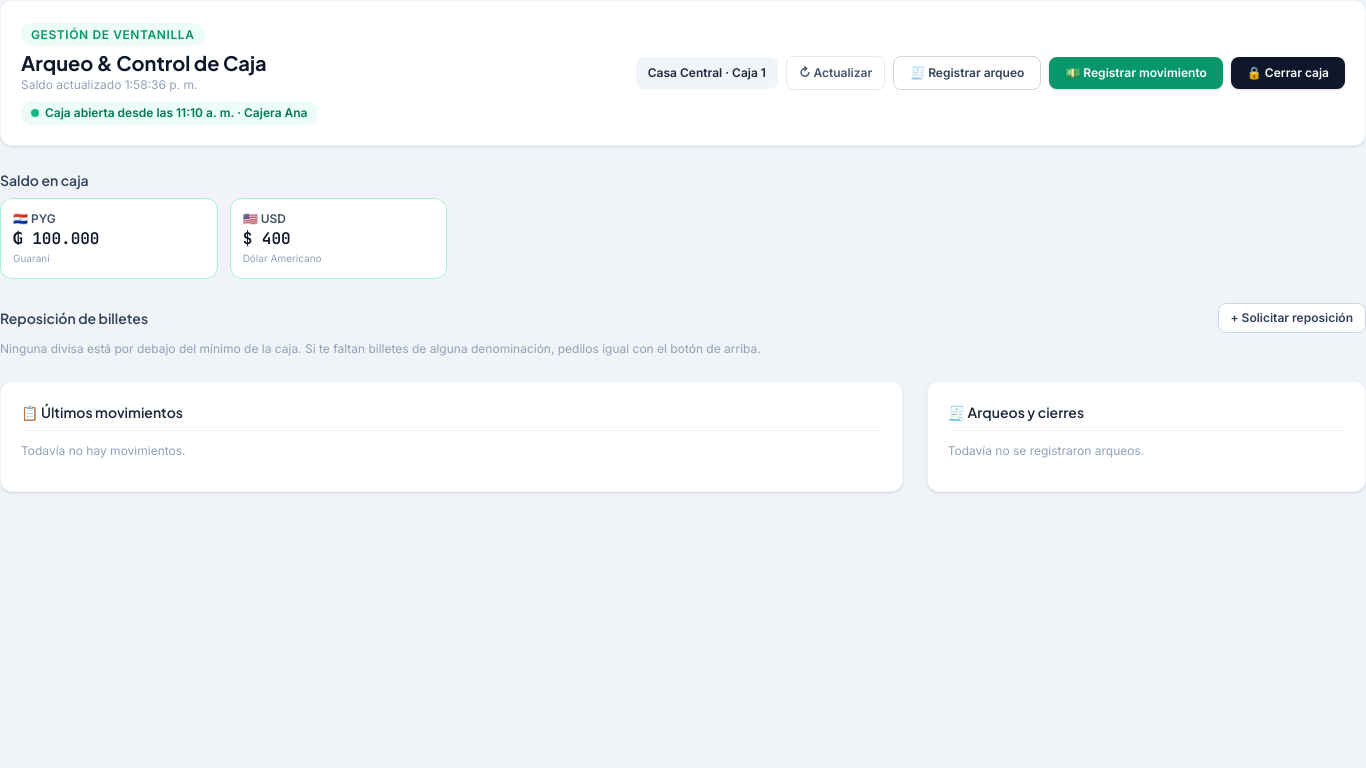
Test: CashCountView · arqueo por total (PI-78) › arranca con el total del sistema y marca faltantes y sobrantes
The width and height of the screenshot is (1366, 768).
Expected: the text "$ 400" is shown, [243,228,291,249]
Click the button "🧾 Registrar arqueo". click: (967, 73)
box: [893,56,1041,90]
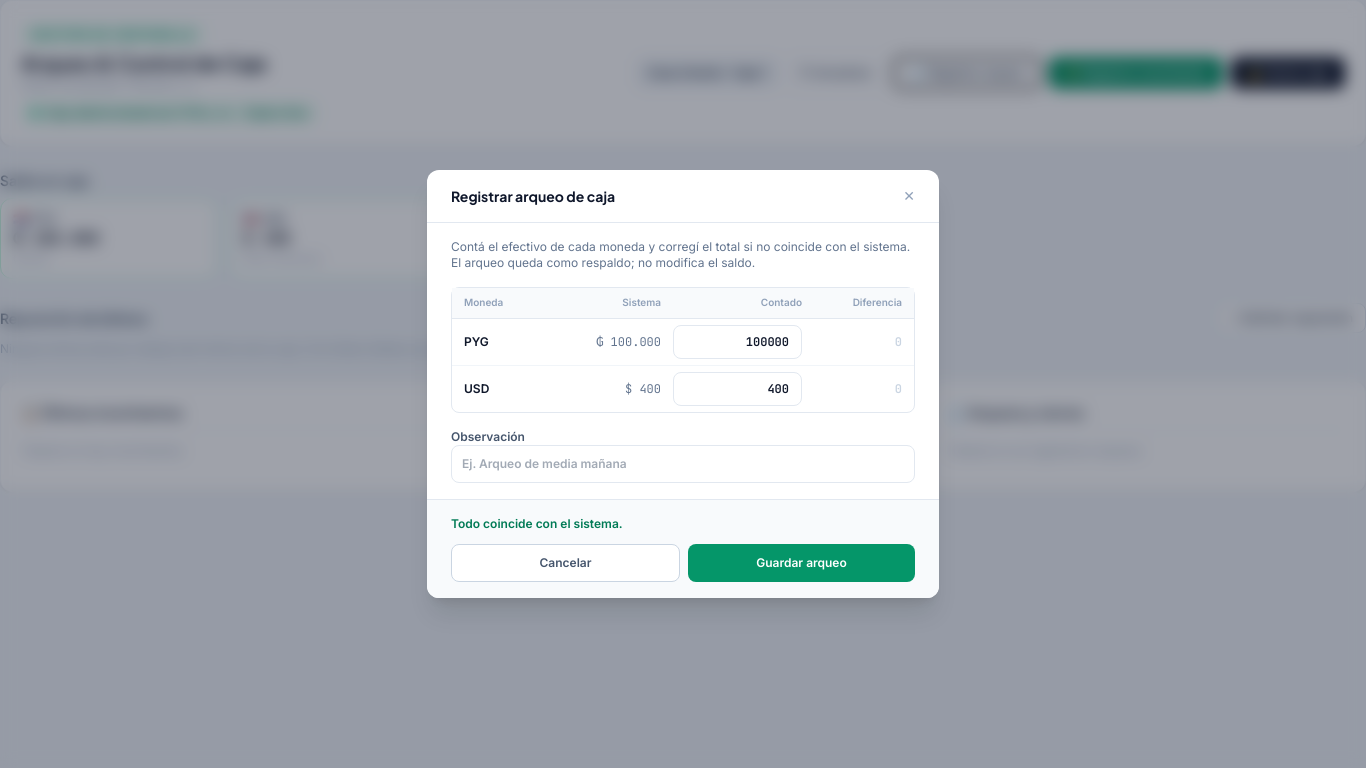
Expected: the number field labelled "USD" holds "400"
Expected: the text "Todo coincide con el sistema." is shown, [451,516,623,531]
Replace the text in the number field labelled "USD" with "380". click: (738, 389)
box: [673,372,802,406]
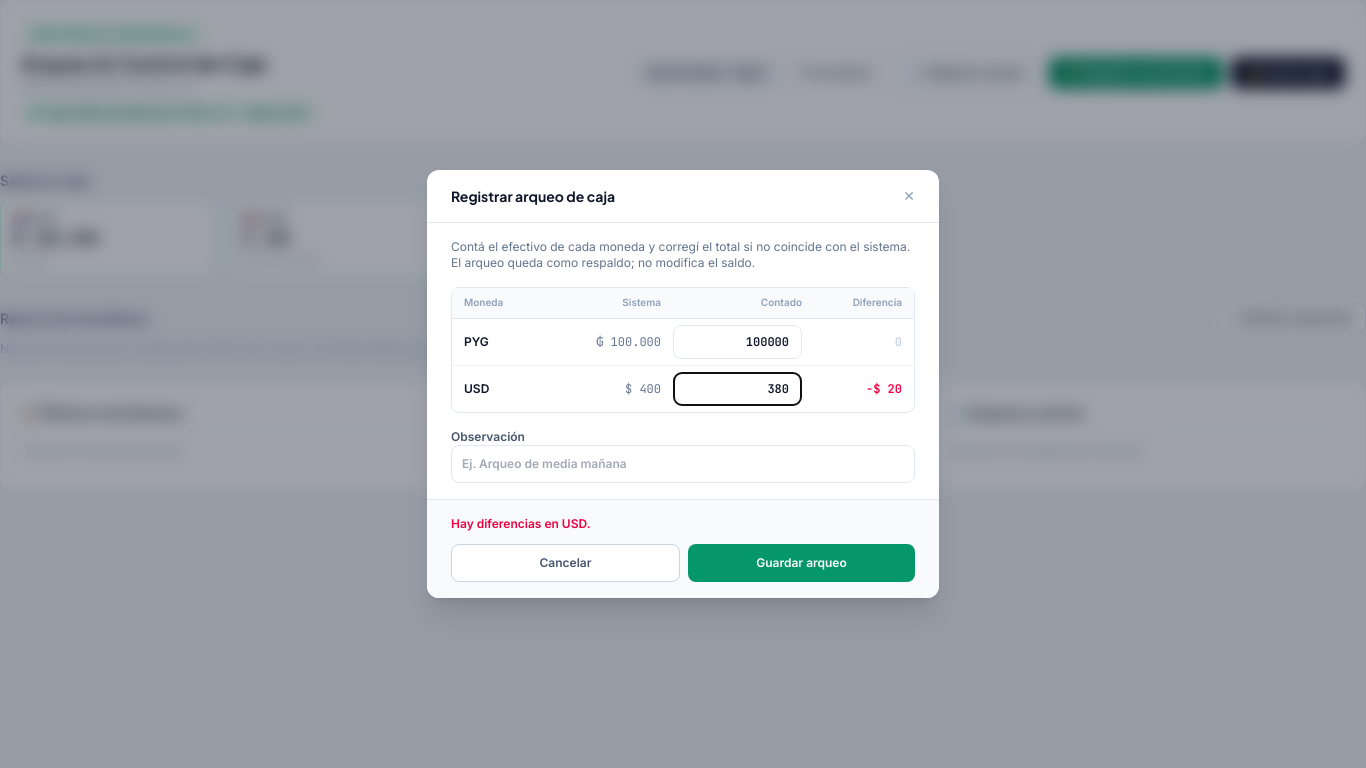
Expected: the text "−$ 20" is shown, [866,381,902,397]
Expected: the text "Hay diferencias en USD." is shown, [451,516,590,531]
Type "Cierre" into the field with placeholder "Ej. Arqueo de media mañana". click: (683, 464)
box: [451,445,915,483]
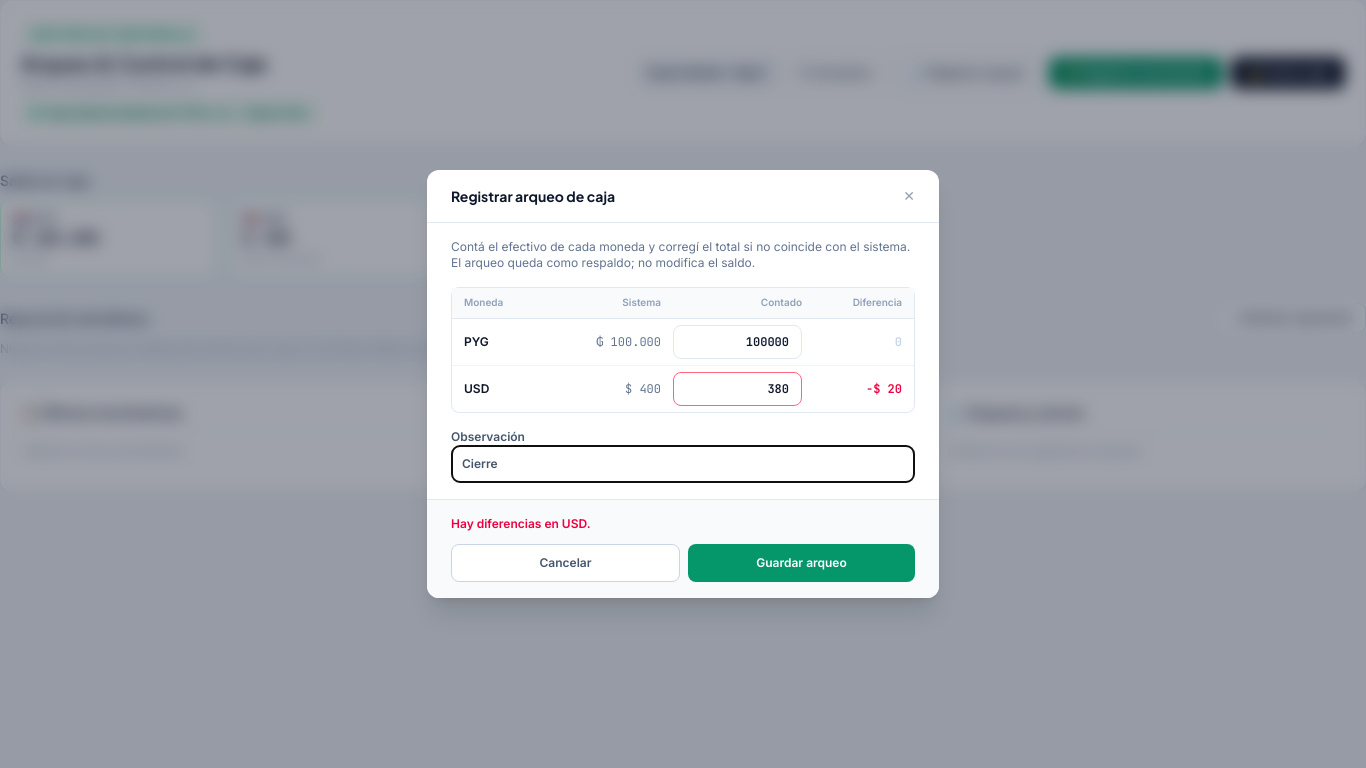
Click the button "Guardar arqueo". click: (802, 563)
box: [688,544,915,582]
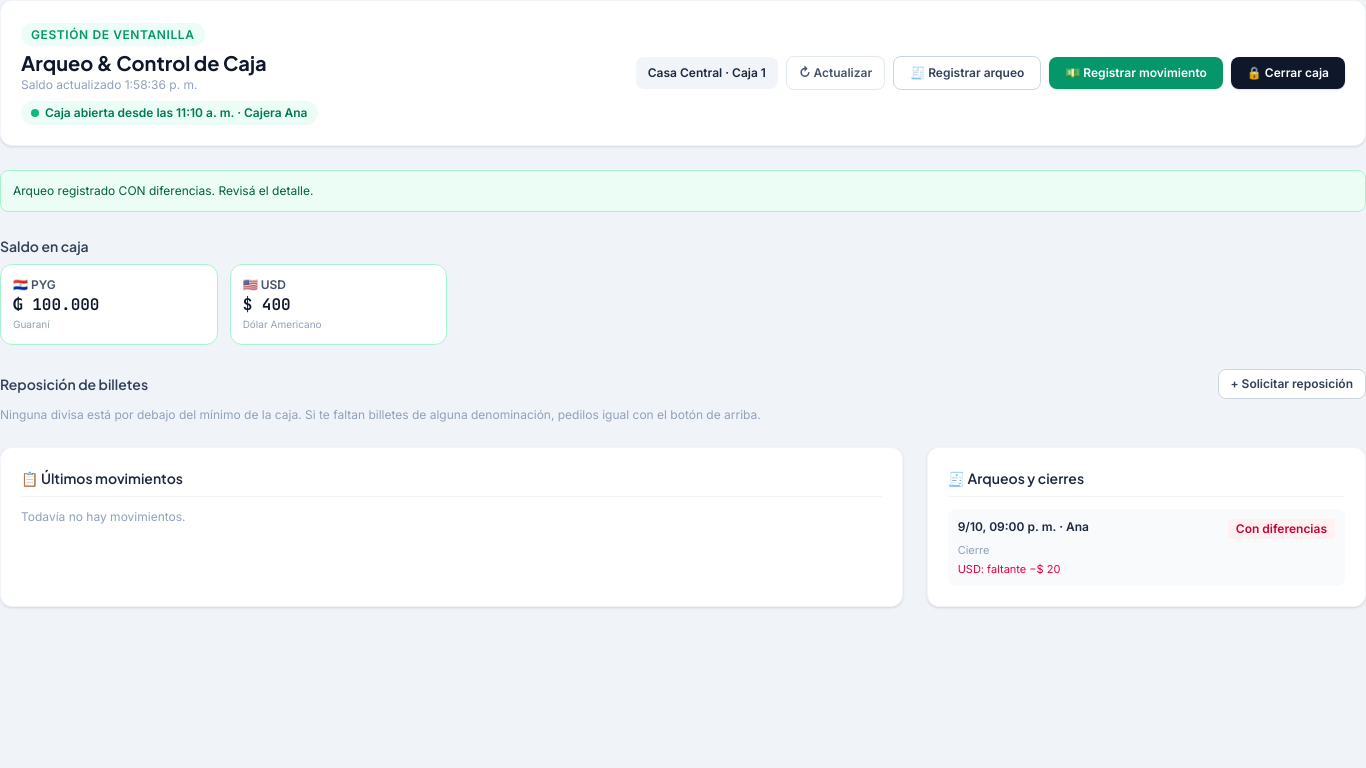
Expected: the message shows "CON diferencias", [13,183,313,198]
Expected: the text "Con diferencias" is shown, [1228,519,1335,539]
Expected: the text "USD: faltante −$ 20" is shown, [958,562,1060,576]
